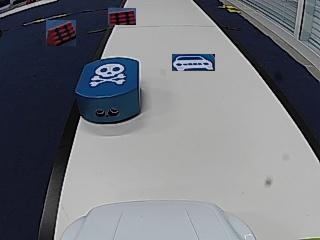danger: (89, 63, 124, 87)
